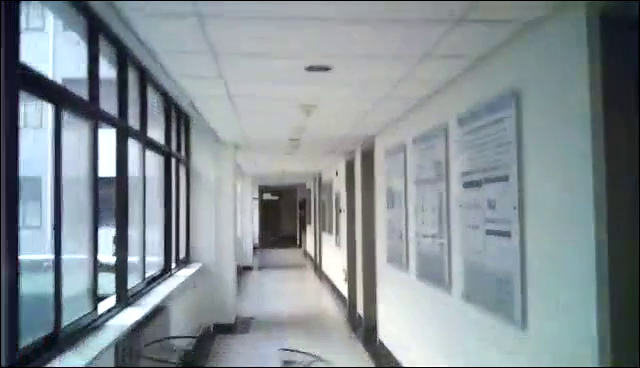drone: (129, 333, 341, 368)
